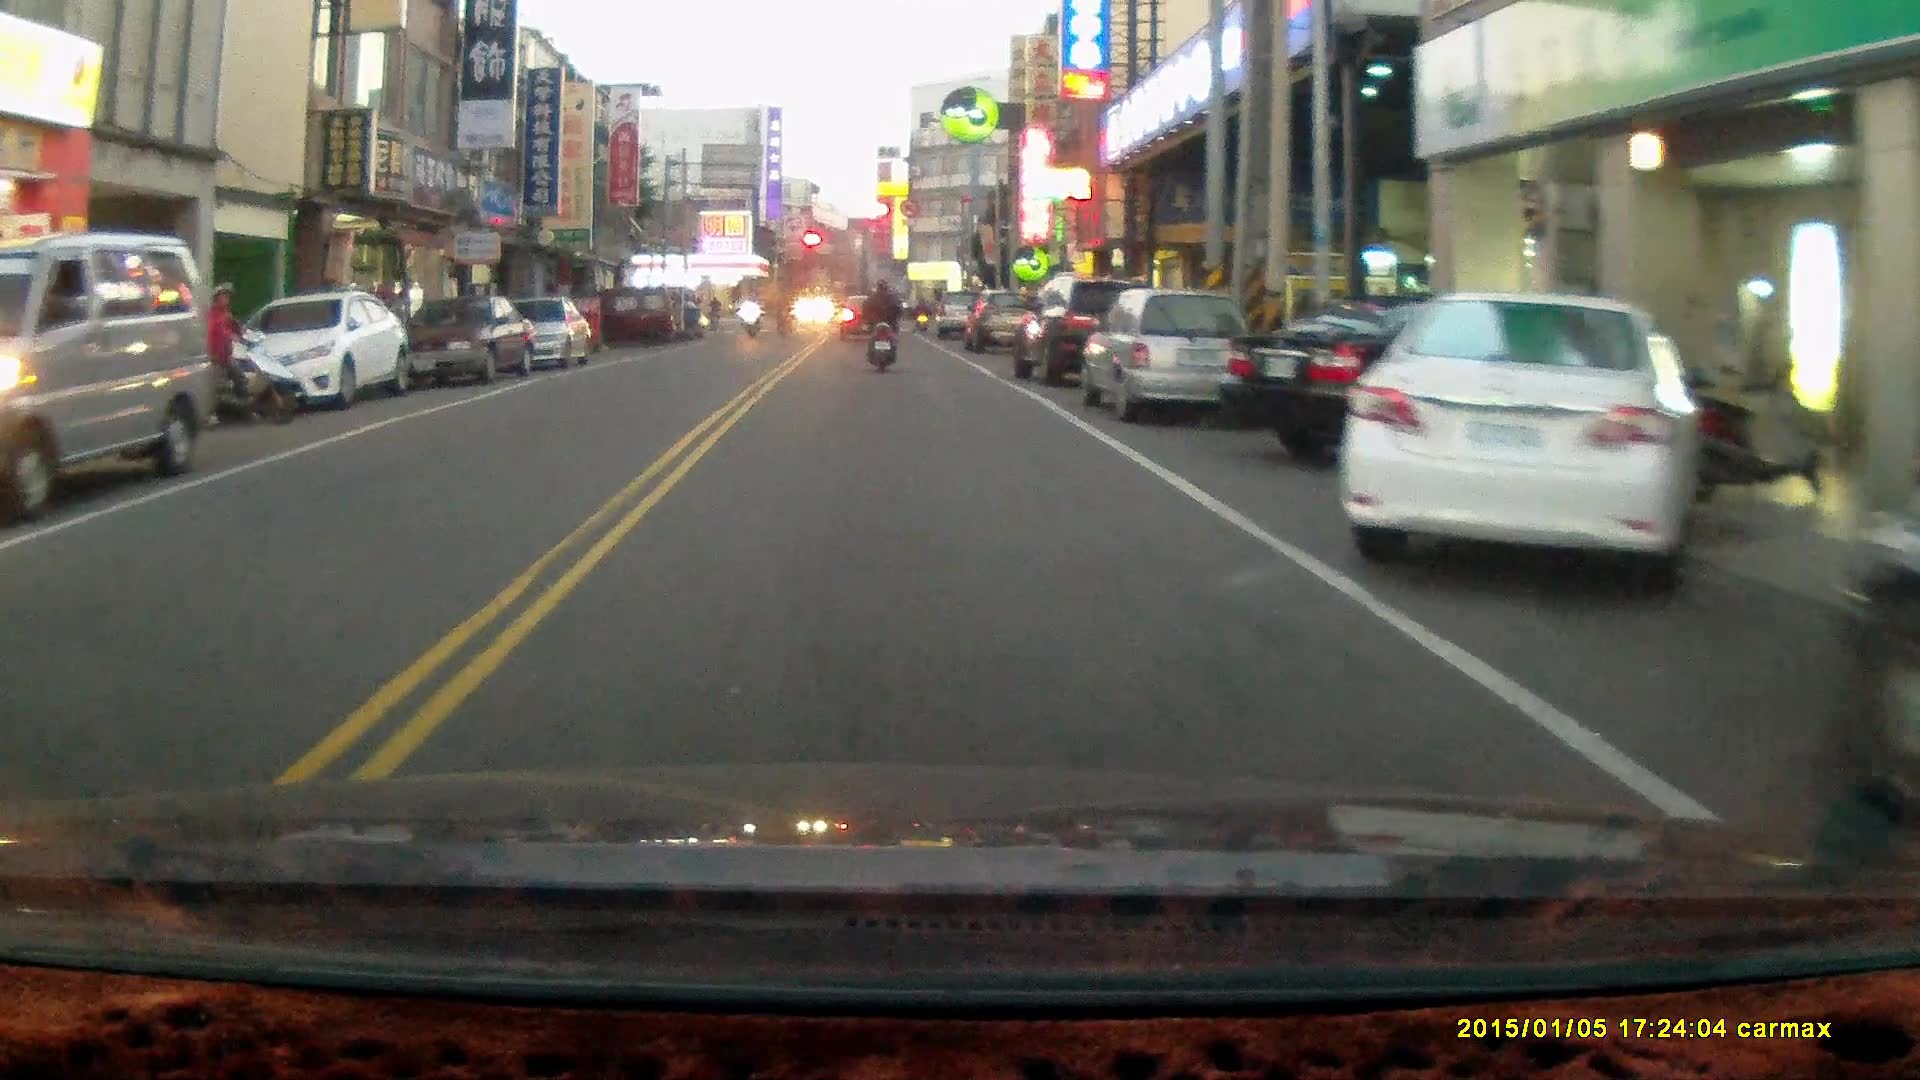rider: (198, 281, 296, 432), (859, 276, 902, 377), (736, 293, 761, 341)
vehicle: (1342, 289, 1713, 582), (1224, 295, 1654, 473), (1, 237, 214, 507), (1083, 288, 1265, 421), (1834, 537, 1920, 810), (227, 292, 408, 416), (1010, 278, 1159, 391), (389, 298, 541, 390), (477, 299, 589, 376)
